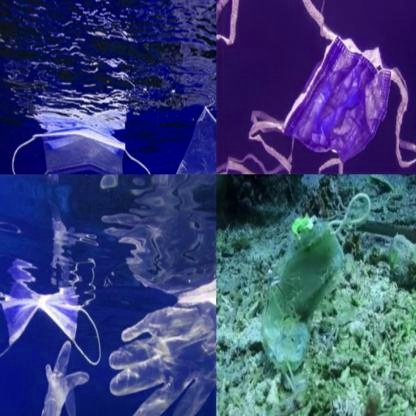Mask: (259, 192, 371, 394), (281, 28, 399, 169), (0, 262, 109, 370), (1, 121, 152, 174)
glove: (106, 235, 216, 415), (130, 104, 216, 173), (19, 343, 101, 415)
